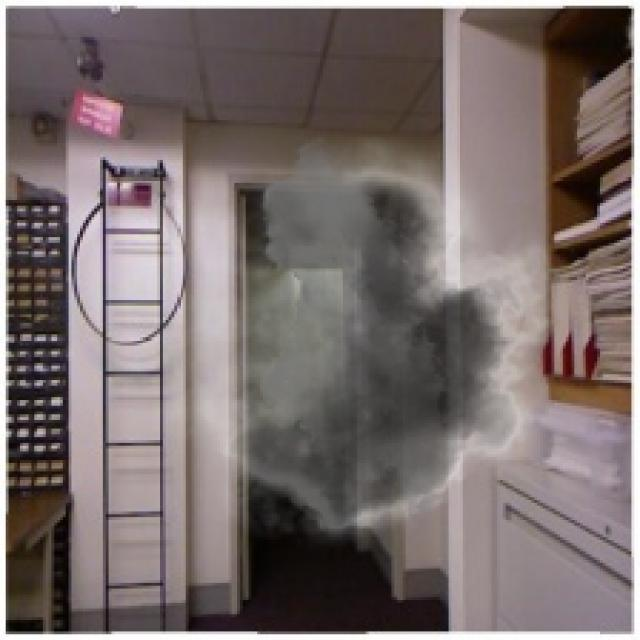Smoke: (148, 137, 574, 563)
